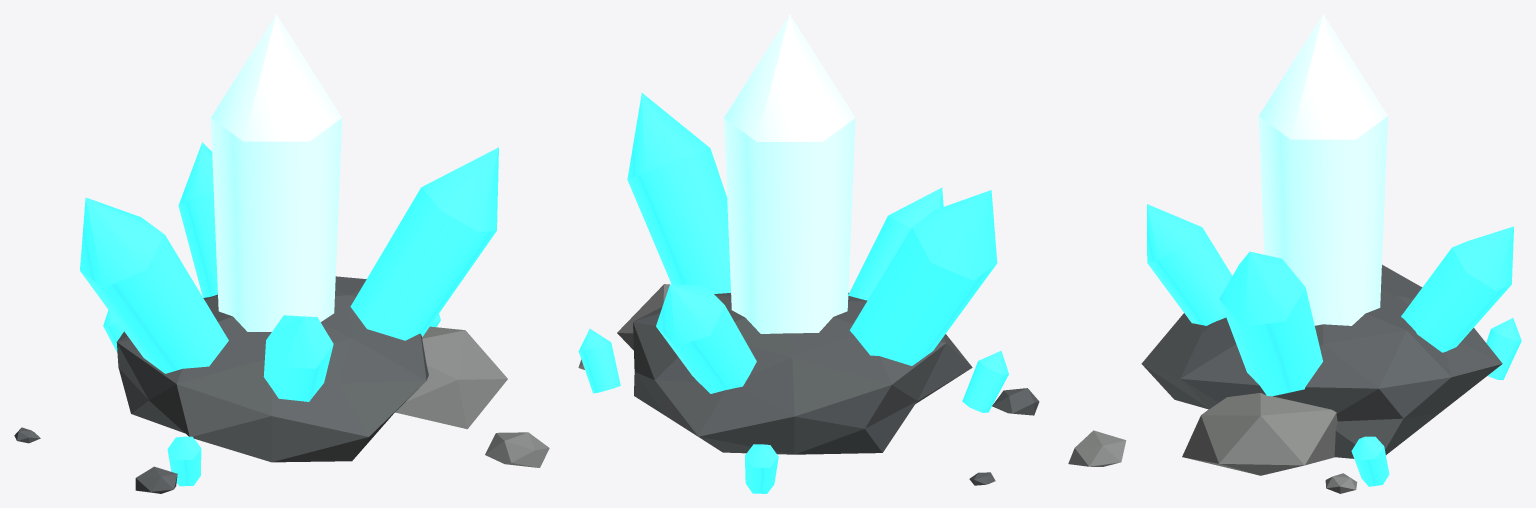
The model's file is CrystalStorm.glb.
3 views of the same model, side by side, from view 1: azimuth 30°, elevation 25°; view 2: azimuth 150°, elevation 25°; view 3: azimuth 270°, elevation 25° (orthographic).
Visible parts, largest first — view 1: Glow, Body, GlowCore; view 2: Glow, GlowCore, Body; view 3: Body, GlowCore, Glow.
Boxes of the visible parts, left/top/right/bottom form: Glow: left=80, top=142, right=498, bottom=486; Body: left=14, top=276, right=549, bottom=493; GlowCore: left=210, top=14, right=342, bottom=331; Glow: left=578, top=93, right=1008, bottom=493; GlowCore: left=724, top=14, right=855, bottom=333; Body: left=578, top=284, right=1039, bottom=485; Body: left=1068, top=264, right=1502, bottom=493; GlowCore: left=1258, top=14, right=1387, bottom=325; Glow: left=1147, top=204, right=1521, bottom=486.
Bounding box in the file's own units: 4.7 × 4.16 × 4.35.
3 materials, 1 textured.
